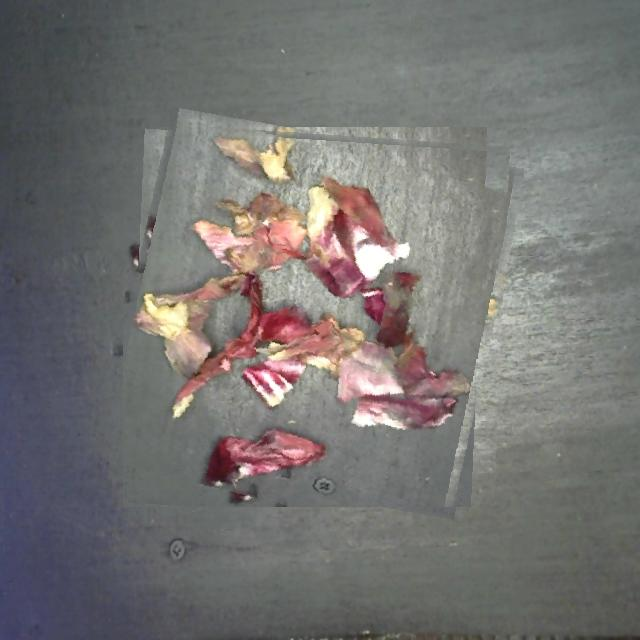biodegradable: (123, 121, 510, 507)
